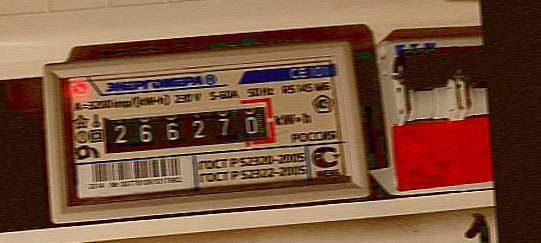0: (242, 113, 256, 135)
2: (111, 122, 126, 144), (190, 117, 203, 139)
6: (137, 122, 151, 143), (163, 120, 177, 140)
7: (214, 115, 229, 137)
screen: (90, 93, 281, 163)
